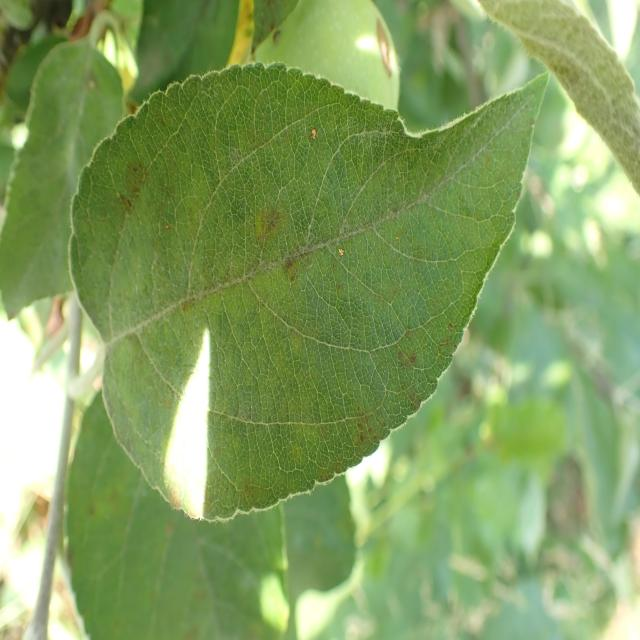scab: (62, 80, 525, 528)
